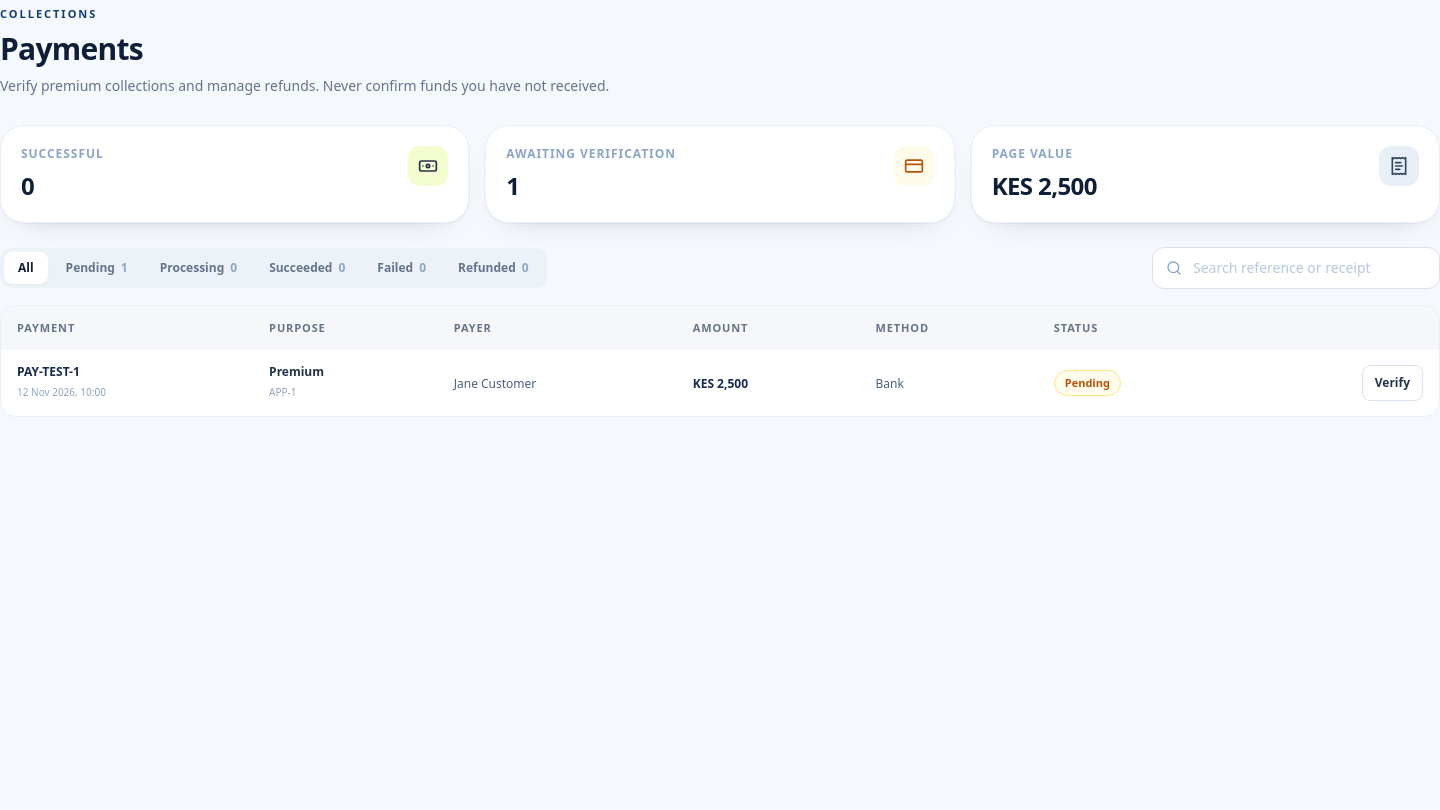
Test: Payments › requires a provider reference before confirming a manual payment
Click the button "Verify" at (1392, 383), box [1362, 365, 1423, 401]
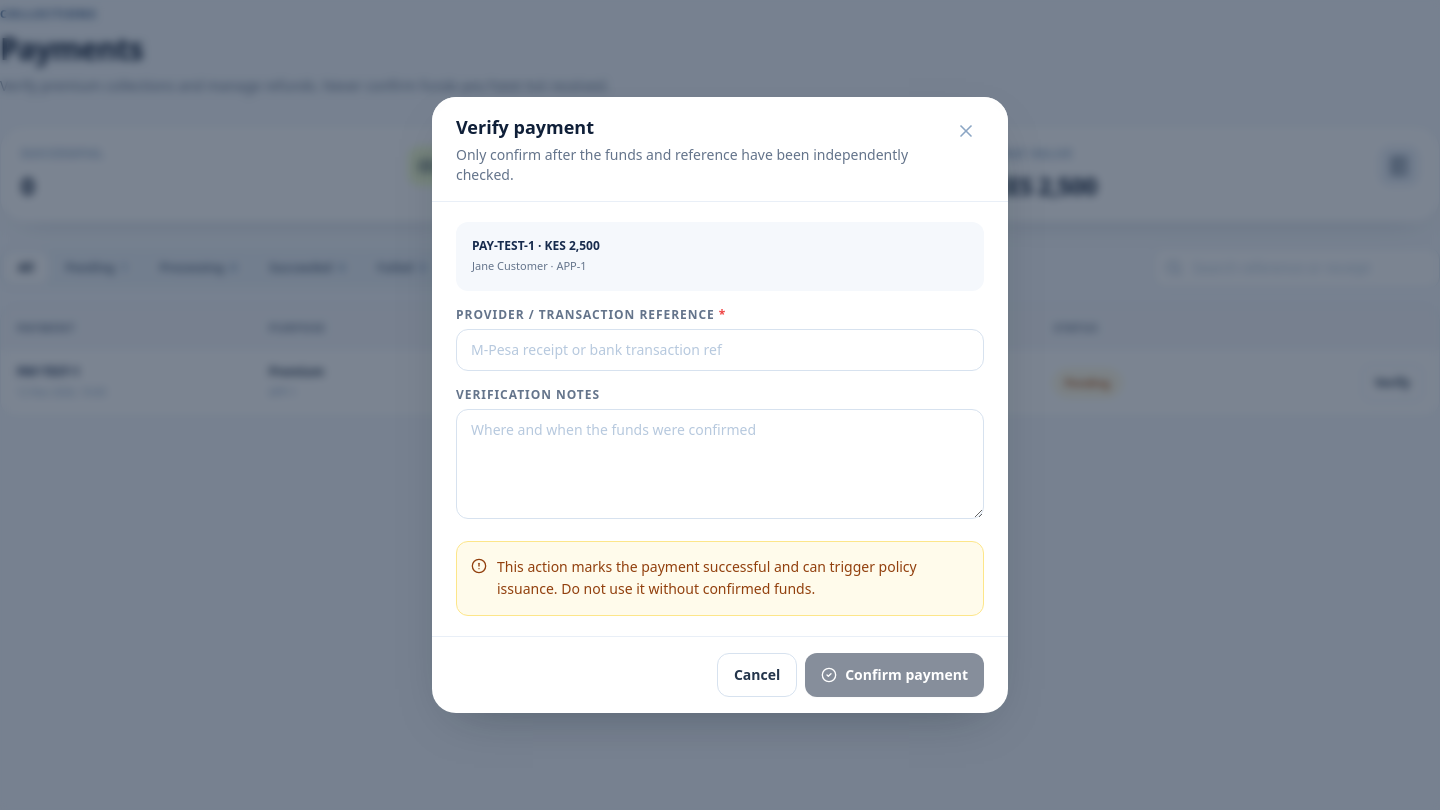
Expected: the button "Confirm payment" is disabled, [805, 653, 984, 697]
Type "BANK-REF-123" into the field labelled "Provider / transaction reference *" at (720, 350), box [456, 328, 984, 370]
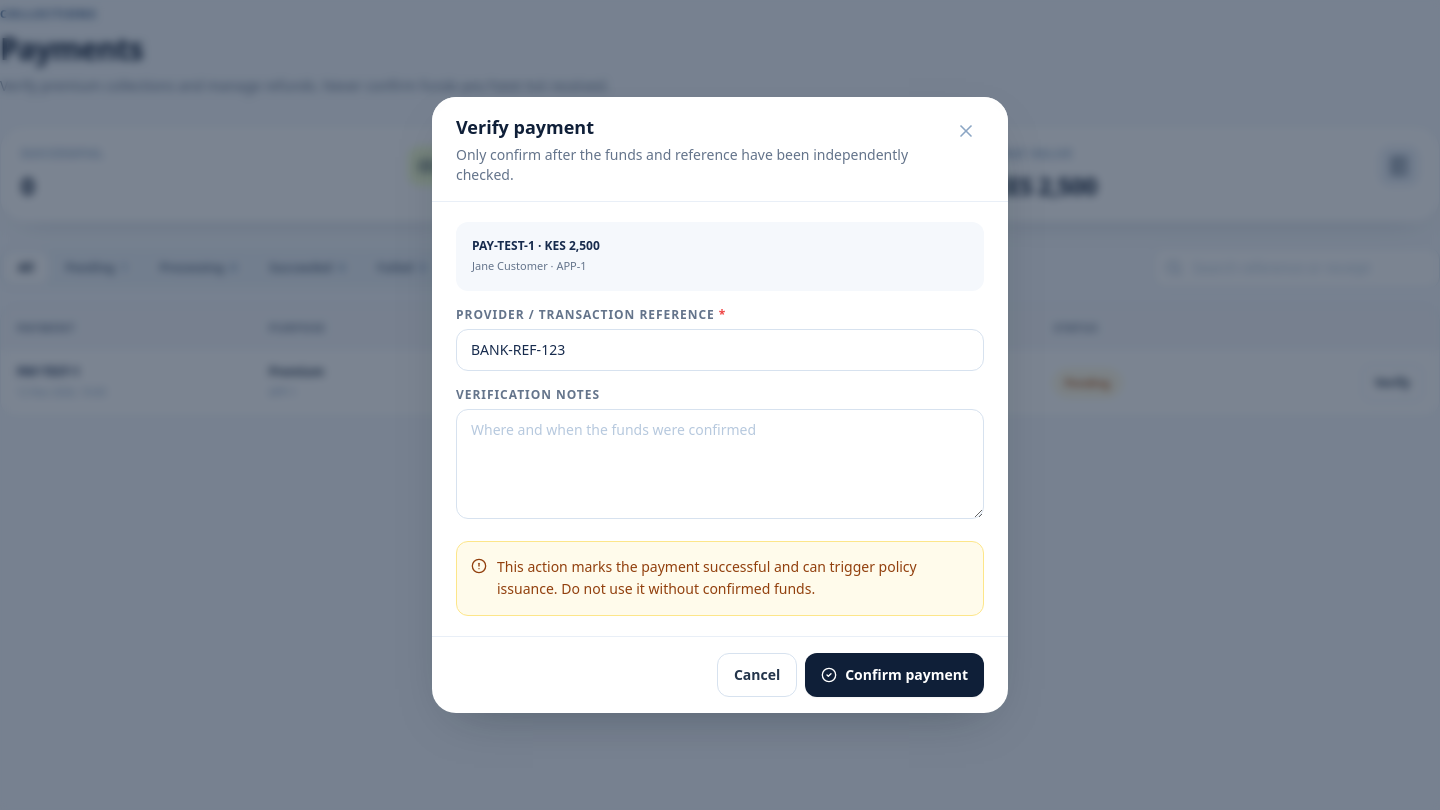
Expected: the button "Confirm payment" is enabled, [805, 653, 984, 697]
